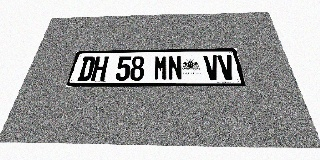5: (115, 56, 132, 81)
8: (129, 56, 145, 81)
D: (77, 57, 96, 81)
H: (91, 56, 109, 81)
M: (153, 56, 168, 81)
N: (168, 55, 182, 81)
V: (217, 55, 236, 80), (203, 55, 221, 80)
